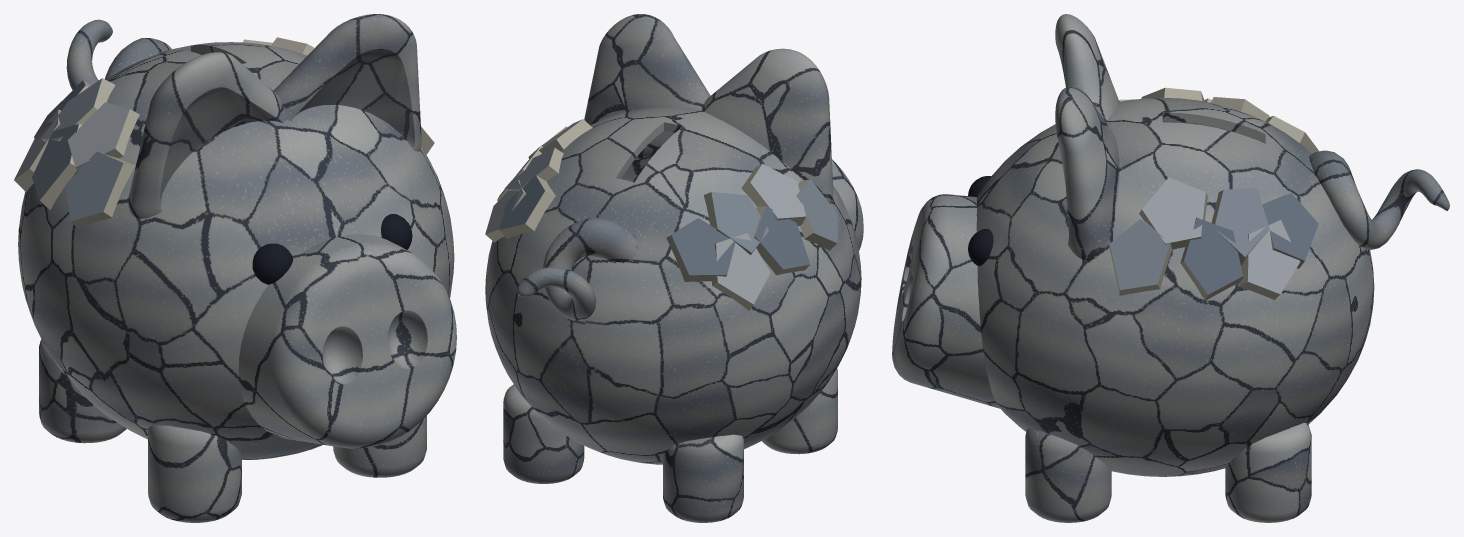
The model's file is rockslide-og-v2-complete.fbx.
The picture shows the model from 3 angles, left to right: view 1: azimuth 30°, elevation 25°; view 2: azimuth 150°, elevation 25°; view 3: azimuth 270°, elevation 25°; orthographic projection. The views are drawn at different scales.
Visible parts, largest first — view 1: Body, Snout, Ears, Legs, SlatePlate_-1_0, Tail, SlatePlate_-1_1, SlatePlate_-1_2, EyePreview, SlatePlate_-1_3, SlatePlate_-1_4, SlatePlate_-1_5; view 2: Body, Ears, Legs, Tail, SlatePlate_-1_5, SlatePlate_-1_2, SlatePlate_-1_4, SlatePlate_-1_3, SlatePlate_-1_1, SlatePlate_1_5, SlatePlate_-1_0, SlatePlate_1_3 (+3 smaller); view 3: Body, Snout, Legs, Ears, Tail, SlatePlate_1_0, SlatePlate_1_2, SlatePlate_1_1, SlatePlate_1_4, SlatePlate_1_3, SlatePlate_1_5, EyePreview.
Part boxes in pixels (x1=…): Body: x1=18, y1=42, x2=454, y2=459; Snout: x1=238, y1=234, x2=456, y2=448; Ears: x1=128, y1=14, x2=421, y2=218; Legs: x1=39, y1=339, x2=426, y2=522; SlatePlate_-1_0: x1=65, y1=151, x2=135, y2=228; Tail: x1=66, y1=19, x2=171, y2=90; SlatePlate_-1_1: x1=67, y1=102, x2=139, y2=171; SlatePlate_-1_2: x1=32, y1=124, x2=82, y2=210; EyePreview: x1=252, y1=214, x2=412, y2=284; SlatePlate_-1_3: x1=41, y1=78, x2=115, y2=141; SlatePlate_-1_4: x1=14, y1=109, x2=60, y2=192; SlatePlate_-1_5: x1=34, y1=80, x2=91, y2=140; Body: x1=485, y1=107, x2=861, y2=464; Ears: x1=584, y1=14, x2=833, y2=203; Legs: x1=503, y1=368, x2=837, y2=522; Tail: x1=517, y1=217, x2=638, y2=321; SlatePlate_-1_5: x1=666, y1=218, x2=735, y2=281; SlatePlate_-1_2: x1=754, y1=206, x2=810, y2=275; SlatePlate_-1_4: x1=712, y1=232, x2=770, y2=310; SlatePlate_-1_3: x1=703, y1=192, x2=769, y2=255; SlatePlate_-1_1: x1=741, y1=164, x2=806, y2=225; SlatePlate_1_5: x1=499, y1=175, x2=555, y2=238; SlatePlate_-1_0: x1=796, y1=179, x2=837, y2=250; SlatePlate_1_3: x1=504, y1=147, x2=563, y2=192; Body: x1=976, y1=97, x2=1374, y2=476; Snout: x1=892, y1=194, x2=1000, y2=408; Legs: x1=1025, y1=422, x2=1311, y2=522; Ears: x1=1055, y1=14, x2=1119, y2=260; Tail: x1=1309, y1=150, x2=1449, y2=249; SlatePlate_1_0: x1=1109, y1=218, x2=1171, y2=295; SlatePlate_1_2: x1=1180, y1=217, x2=1243, y2=300; SlatePlate_1_1: x1=1139, y1=177, x2=1207, y2=249; SlatePlate_1_4: x1=1238, y1=220, x2=1299, y2=299; SlatePlate_1_3: x1=1211, y1=188, x2=1269, y2=265; SlatePlate_1_5: x1=1262, y1=193, x2=1318, y2=268; EyePreview: x1=968, y1=176, x2=993, y2=265.
Bounding box in the file's own units: 1200 × 1397 × 1708.
Materials: 27 (2 with a texture image).
